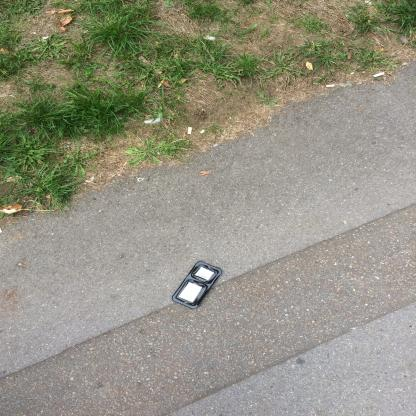trash: (170, 260, 225, 310)
